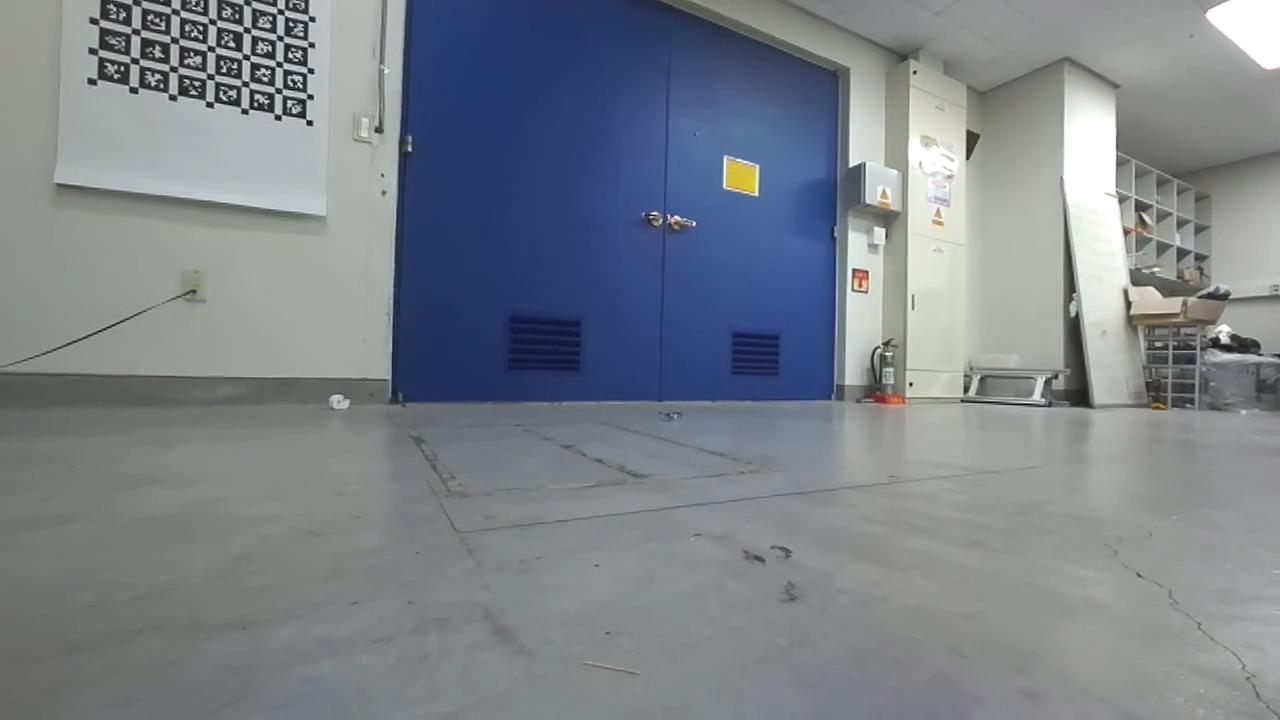crazyflie: (654, 403, 693, 429)
